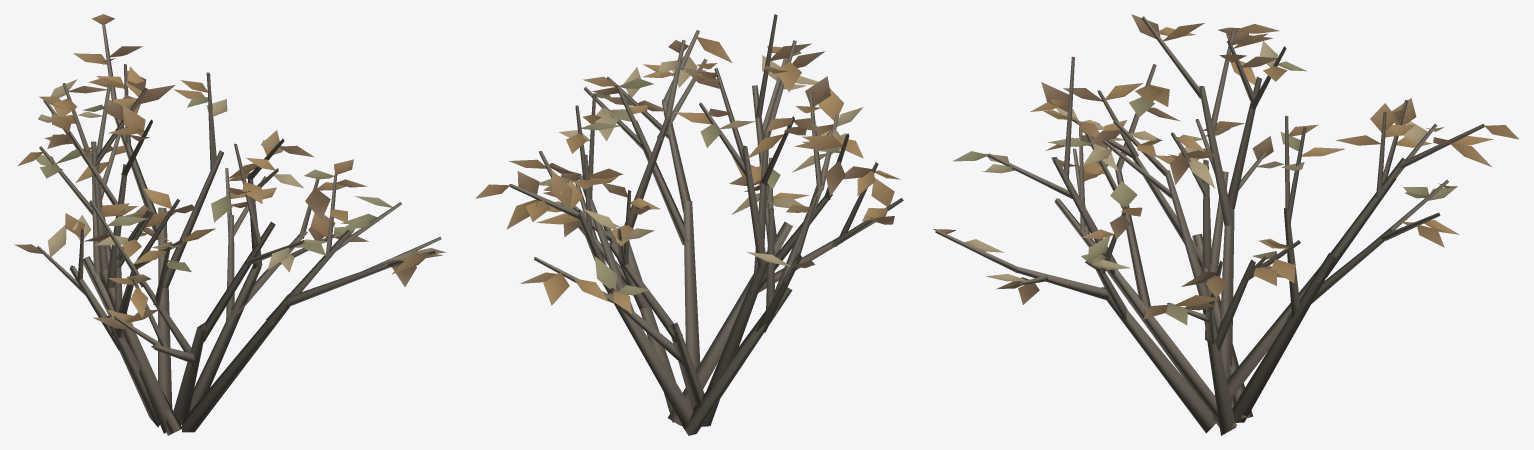
File: gc_dry_bush.glb
3 renders of one model, left to right at view 1: azimuth 30°, elevation 25°; view 2: azimuth 150°, elevation 25°; view 3: azimuth 270°, elevation 25°, orthographic. The views are drawn at different scales.
Parts seen in each view (by area): view 1: gc_dry_bush; view 2: gc_dry_bush; view 3: gc_dry_bush.
Part boxes in pixels (x1,y1,x2,y2): gc_dry_bush: (14,14,445,435); gc_dry_bush: (475,14,903,435); gc_dry_bush: (933,14,1518,435).
Bounding box in the file's own units: 0.8189 × 0.8796 × 1.23.
